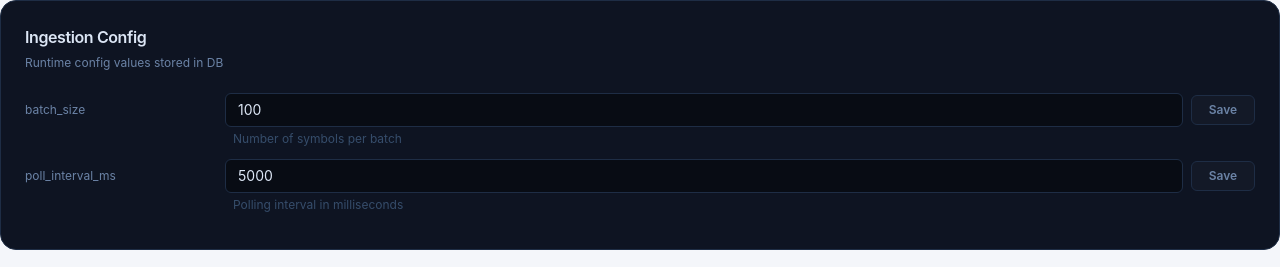
Test: IngestionConfigCard — states › Save button enables after editing a field
Expected: the text "batch_size" is shown, 25,102 -> 85,116
Replace the text in the field next to "batch_size" with "200": x=704, y=110 225,92 -> 1183,126
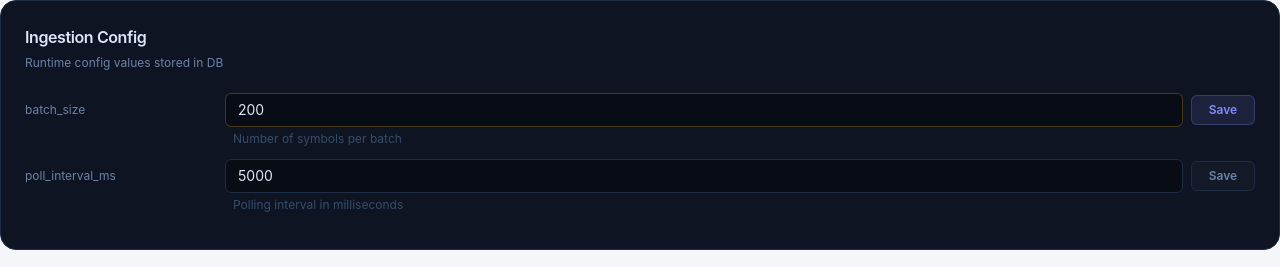
Result: the button "Save" in the row of "batch_size" is enabled at 1191,94 -> 1255,124
